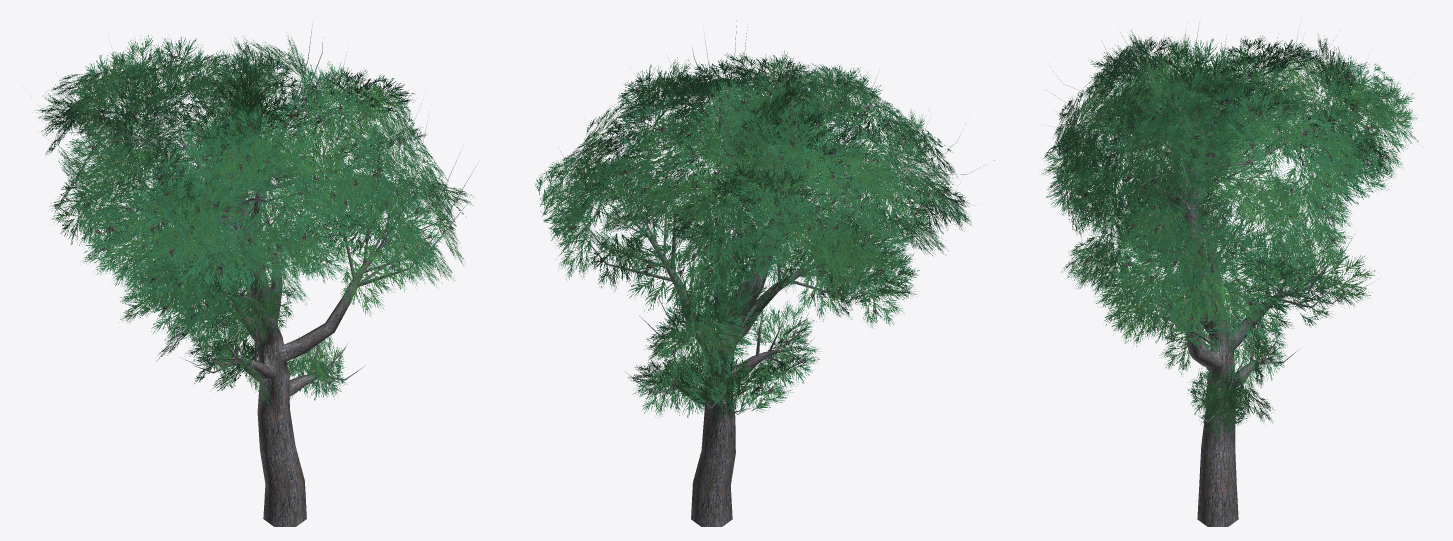
Rendered from tree1.obj.
3 views of the same model, side by side, from view 1: azimuth 30°, elevation 25°; view 2: azimuth 150°, elevation 25°; view 3: azimuth 270°, elevation 25° (orthographic). The views are drawn at different scales.
Visible parts, largest first — view 1: Object003, Object004, Object001, Object002; view 2: Object003, Object004, Object001, Object002; view 3: Object003, Object004, Object001, Object002.
Boxes of the visible parts, x1,y1,x2,y2 form: Object003: [35, 35, 463, 400]; Object004: [43, 51, 474, 408]; Object001: [217, 173, 398, 526]; Object002: [39, 22, 478, 380]; Object003: [535, 50, 971, 421]; Object004: [562, 58, 938, 403]; Object001: [630, 165, 822, 526]; Object002: [560, 20, 994, 414]; Object003: [1041, 31, 1418, 439]; Object004: [1054, 34, 1419, 426]; Object001: [1166, 157, 1317, 526]; Object002: [1054, 23, 1393, 424].
Bounding box in the file's own units: 588 × 633 × 498.
4 materials, 4 textured.
